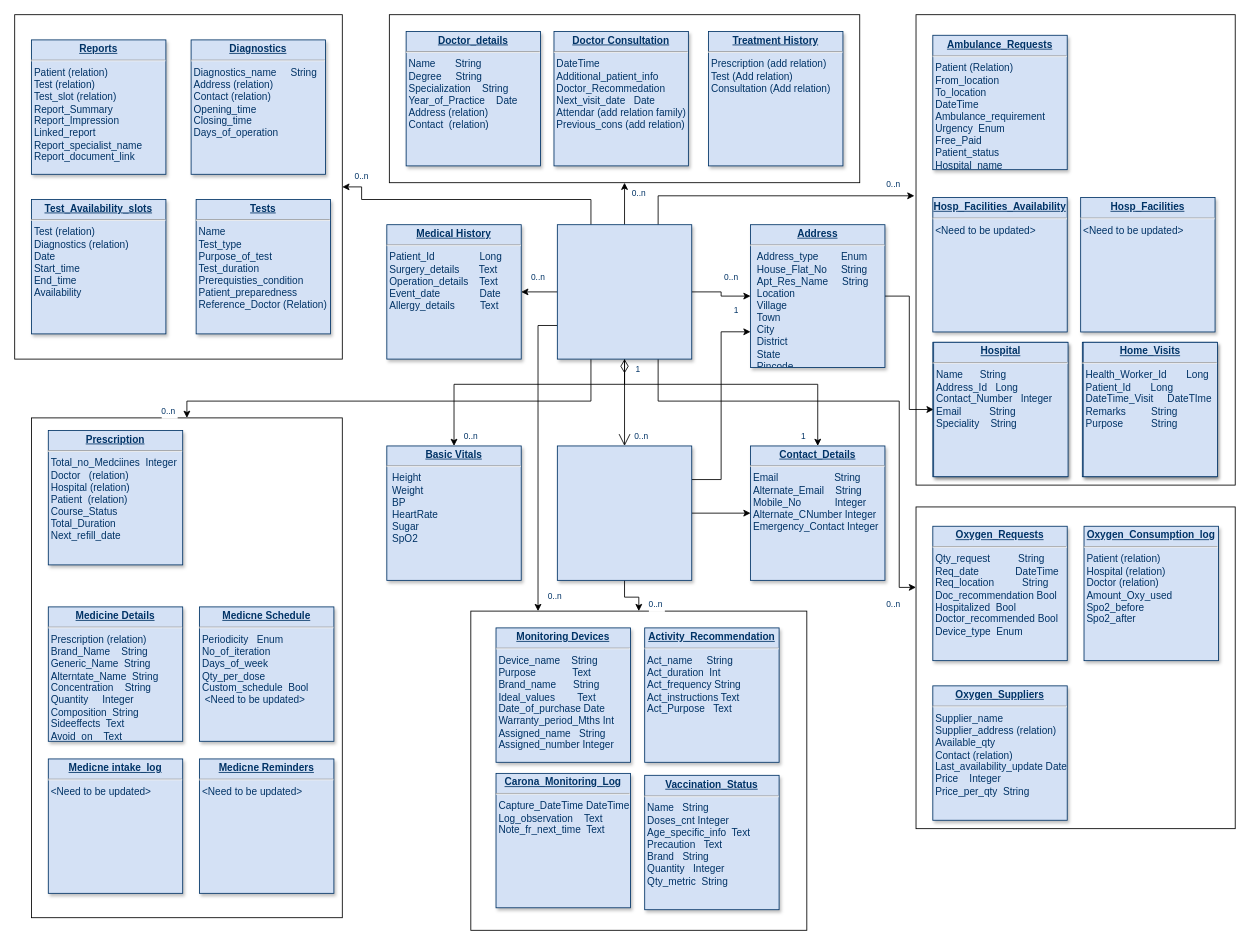
This 1250x945 diagram has some shape labels left out. Each missing label, with the centre of its shape:
"Family_Details Relaation_type FullName String UID Integer DoB Date Age Integer" goes at (x=625, y=514).
"Patient FullName String DoB Date Age Integer UID Integer DL Integer" goes at (x=625, y=292).
